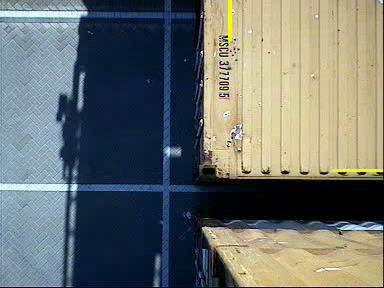groundmarker_2: (56, 187, 147, 227)
